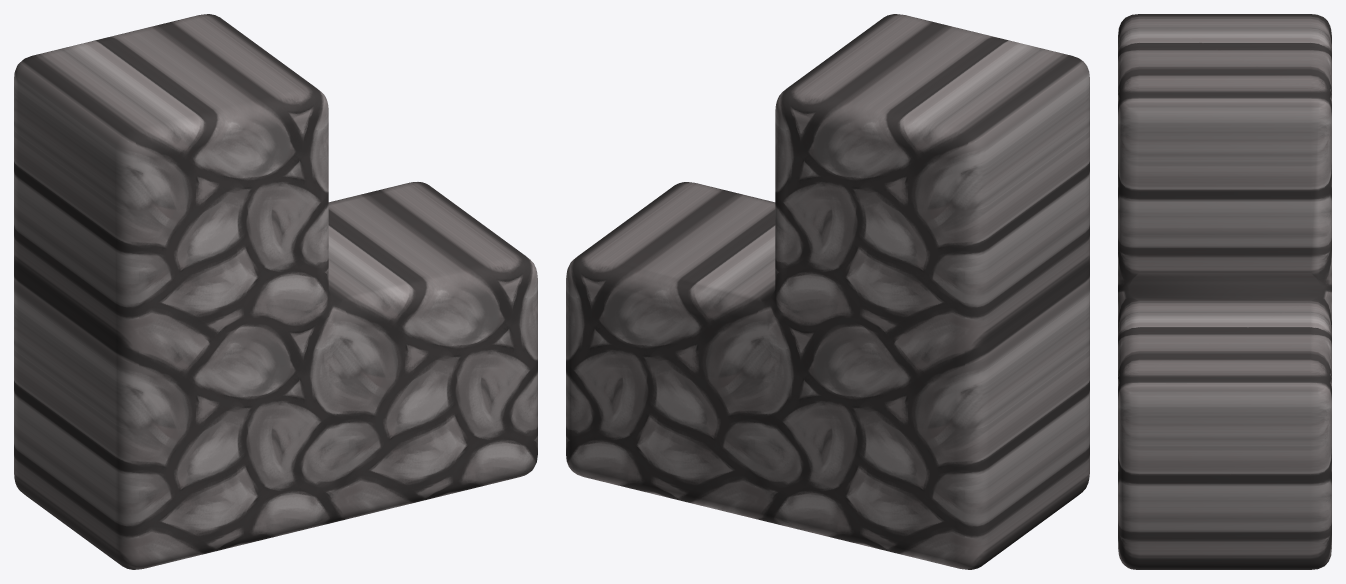
The model's file is corner_block.FBX.
The picture shows the model from 3 angles, left to right: view 1: azimuth 30°, elevation 25°; view 2: azimuth 150°, elevation 25°; view 3: azimuth 270°, elevation 25°; orthographic projection. The views are drawn at different scales.
Parts seen in each view (by area): view 1: block; view 2: block; view 3: block.
Boxes of the visible parts, x1=… form: block: x1=14, y1=14, x2=537, y2=569; block: x1=566, y1=14, x2=1089, y2=569; block: x1=1118, y1=14, x2=1331, y2=569.
Bounding box in the file's own units: 2 × 2 × 1.
